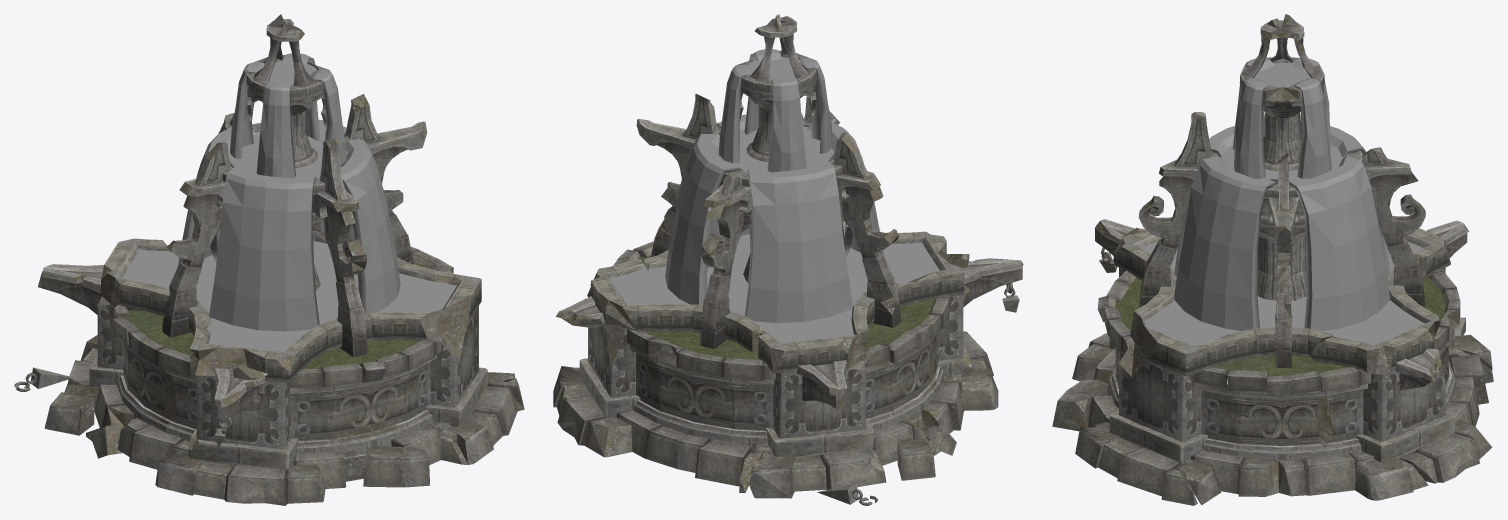
File: bg_lut_lucastle_fountain01b_sm_kbw.FBX
3 views of the same model, side by side, from view 1: azimuth 30°, elevation 25°; view 2: azimuth 150°, elevation 25°; view 3: azimuth 270°, elevation 25° (orthographic). The views are drawn at different scales.
Parts seen in each view (by area): view 1: bg_lut_lucastle_fountain01b_sm_kbw; view 2: bg_lut_lucastle_fountain01b_sm_kbw; view 3: bg_lut_lucastle_fountain01b_sm_kbw.
Part boxes in pixels (x1,y1,x2,y2): bg_lut_lucastle_fountain01b_sm_kbw: [14, 14, 524, 505]; bg_lut_lucastle_fountain01b_sm_kbw: [553, 14, 1023, 505]; bg_lut_lucastle_fountain01b_sm_kbw: [1052, 14, 1493, 505].
Size of the model in its own units: 505 by 496 by 489.
